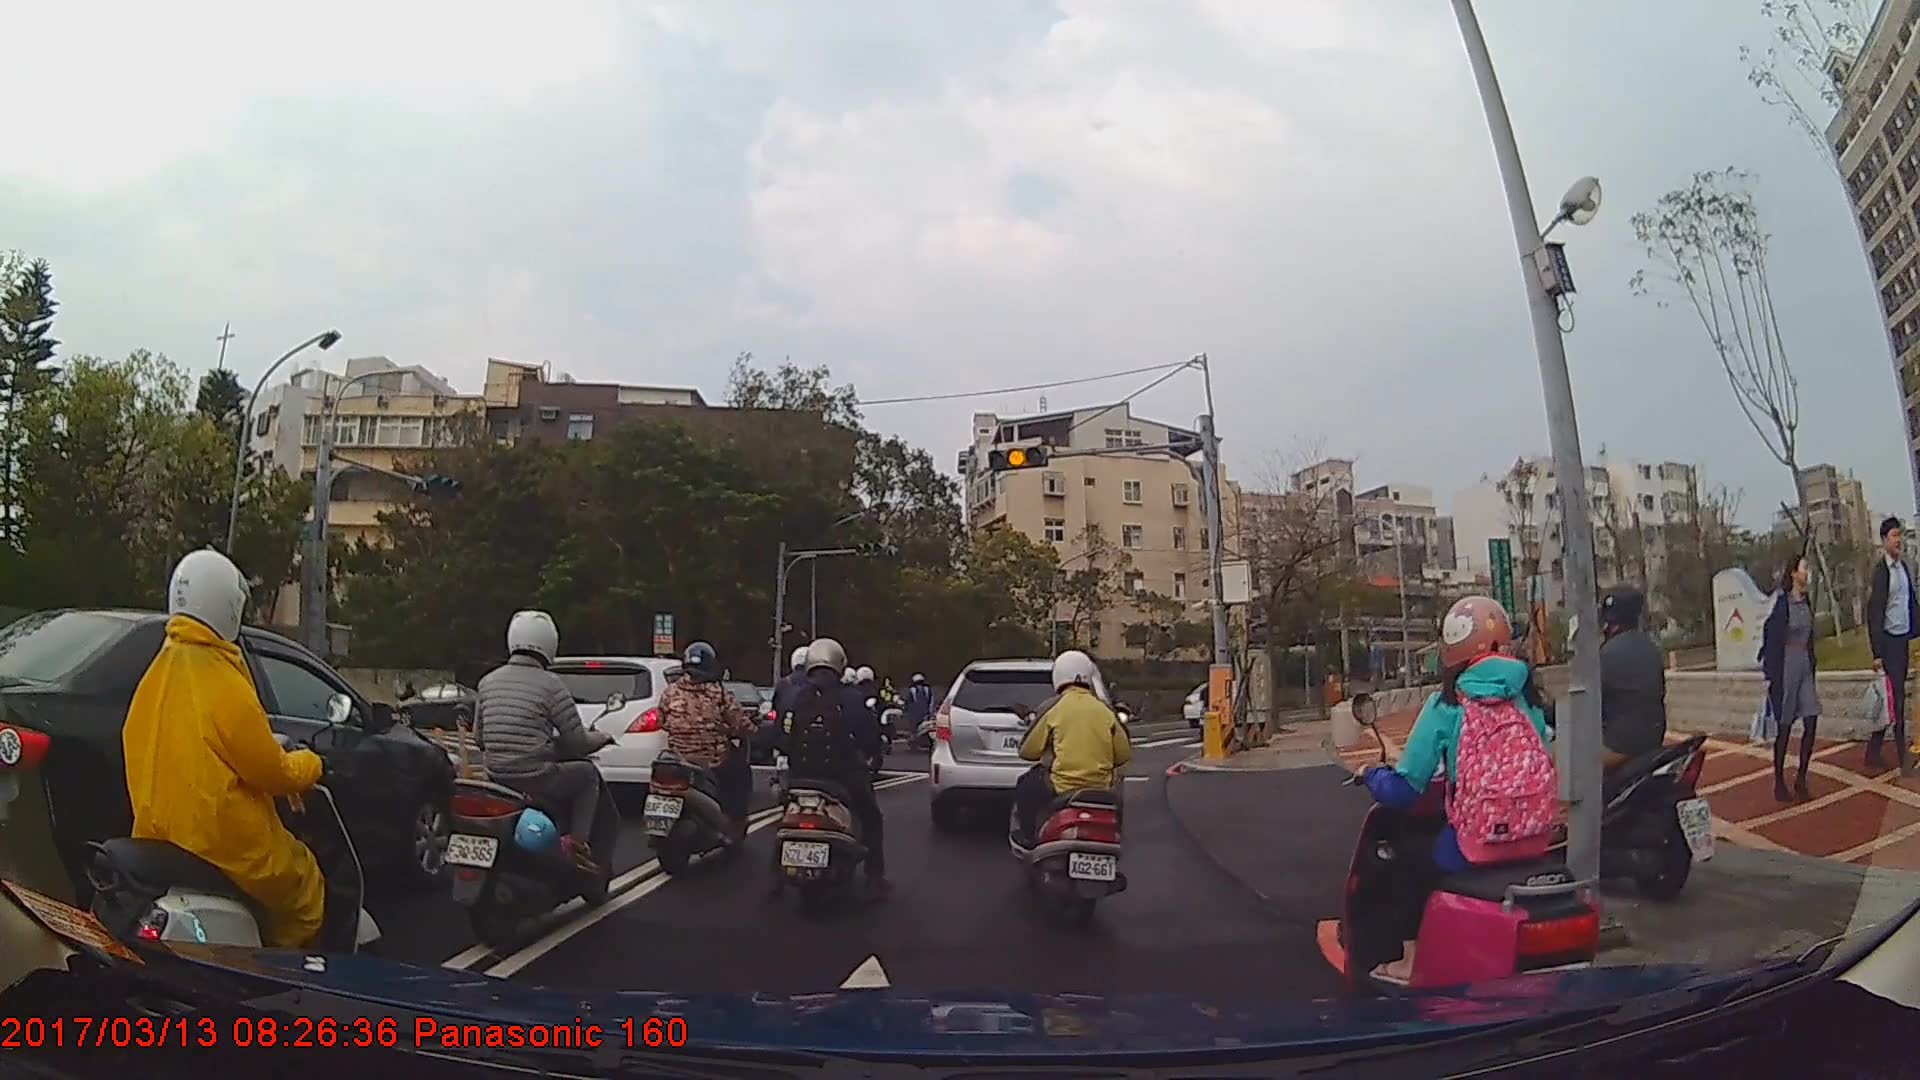pedestrian: (1762, 559, 1833, 805), (1864, 515, 1917, 784)
rider: (86, 545, 386, 1006), (1343, 600, 1591, 1017), (447, 606, 619, 952), (1511, 590, 1693, 904), (769, 637, 896, 922), (1009, 648, 1134, 926), (639, 642, 765, 877)
vehicle: (0, 606, 461, 939), (518, 657, 753, 817), (923, 660, 1124, 831), (394, 683, 496, 731)
